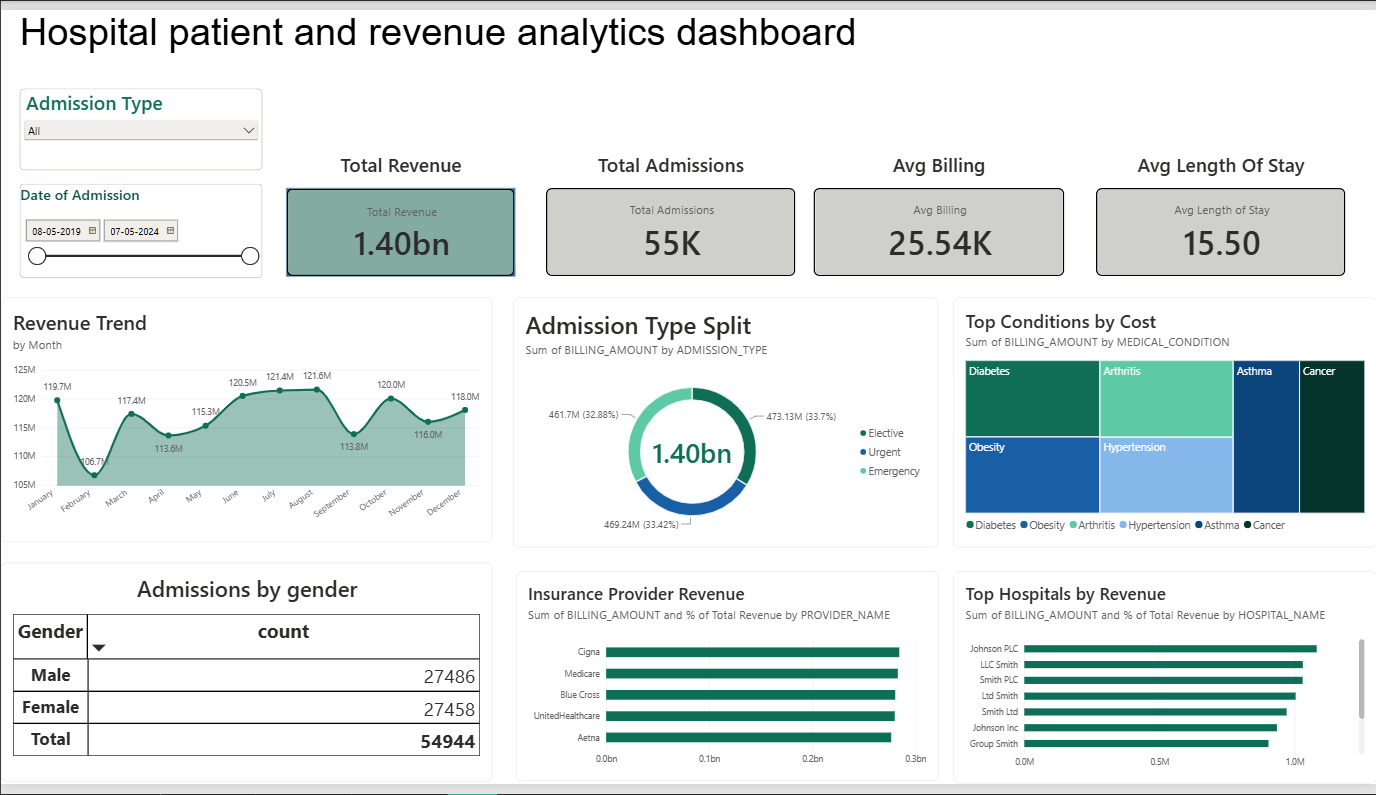

This screenshot's page, from the dashboard's own definition file:
{"tool":"powerbi","page":{"name":"Page 3","canvas":[1920,1080],"ordinal":2},"visuals":[{"type":"lineChart","title":" Revenue Trend","fields":{"Y":["Sum(ADMISSIONS.BILLING_AMOUNT)"],"Category":["ADMISSIONS.DATE_OF_ADMISSION.Variation.Date Hierarchy.Month"]},"box":[0,401.2,685.5,341.9],"z":0},{"type":"donutChart","title":"Admission Type Split","fields":{"Category":["ADMISSIONS.ADMISSION_TYPE"],"Y":["Sum(ADMISSIONS.BILLING_AMOUNT)"]},"box":[715.1,401.2,593,348.8],"z":1000},{"type":"clusteredBarChart","title":"Top Hospitals by Revenue","fields":{"Category":["HOSPITALS.HOSPITAL_NAME"],"Y":["Sum(ADMISSIONS.BILLING_AMOUNT)"]},"box":[1329.1,783.1,590.7,296.4],"z":2000},{"type":"clusteredBarChart","title":" Insurance Provider Revenue","fields":{"Category":["INSURANCE_PROVIDERS.PROVIDER_NAME"],"Y":["Sum(ADMISSIONS.BILLING_AMOUNT)"]},"box":[718.6,783.1,589.5,293],"z":3000},{"type":"treemap","title":"Top Conditions by Cost","fields":{"Group":["ADMISSIONS.MEDICAL_CONDITION"],"Values":["Sum(ADMISSIONS.BILLING_AMOUNT)"]},"box":[1329.1,401.2,591.3,348.8],"z":4000},{"type":"pivotTable","title":"Admissions by gender","fields":{"Rows":["PATIENTS.GENDER"],"Values":["CountNonNull(PATIENTS.AGE)"]},"box":[0,770.9,685.5,305.2],"z":5000},{"type":"textbox","box":[26.2,0,1220.9,109.9],"z":6000},{"type":"cardVisual","title":"Total Revenue ","fields":{"Data":["Sum(ADMISSIONS.BILLING_AMOUNT)"]},"box":[397.7,197.1,320.9,176.2],"z":7000},{"type":"cardVisual","title":"Total Admissions","fields":{"Data":["CountNonNull(ADMISSIONS.ADMISSION_ID)"]},"box":[760.5,197.1,348.8,174.4],"z":8000},{"type":"cardVisual","title":"Avg Billing","fields":{"Data":["Avg(ADMISSIONS.BILLING_AMOUNT)"]},"box":[1133.7,197.1,350.6,174.4],"z":9000},{"type":"cardVisual","title":"Avg Length Of Stay ","fields":{"Data":["Avg(ADMISSIONS.LENGTH_OF_STAY)"]},"box":[1527.9,197.1,348.8,174.4],"z":10000},{"type":"slicer","fields":{"Values":["ADMISSIONS.ADMISSION_TYPE"]},"box":[26.2,109.9,338.4,113.4],"z":11000},{"type":"slicer","fields":{"Values":["ADMISSIONS.DATE_OF_ADMISSION"]},"box":[26.2,252.9,338.4,120.3],"z":12000}]}

Visuals, with their boxes in screenshot pixels (x1, y1, x2, y2), scaled from the page's 1920x1080 canvas onto the 1376x795 screenshot:
" Revenue Trend" lineChart: {"left": 0, "top": 295, "right": 491, "bottom": 547}
"Admission Type Split" donutChart: {"left": 512, "top": 295, "right": 937, "bottom": 552}
"Top Hospitals by Revenue" clusteredBarChart: {"left": 953, "top": 576, "right": 1375, "bottom": 794}
" Insurance Provider Revenue" clusteredBarChart: {"left": 515, "top": 576, "right": 937, "bottom": 792}
"Top Conditions by Cost" treemap: {"left": 953, "top": 295, "right": 1375, "bottom": 552}
"Admissions by gender" pivotTable: {"left": 0, "top": 567, "right": 491, "bottom": 792}
textbox: {"left": 19, "top": 0, "right": 894, "bottom": 81}
"Total Revenue " cardVisual: {"left": 285, "top": 145, "right": 515, "bottom": 275}
"Total Admissions" cardVisual: {"left": 545, "top": 145, "right": 795, "bottom": 273}
"Avg Billing" cardVisual: {"left": 812, "top": 145, "right": 1064, "bottom": 273}
"Avg Length Of Stay " cardVisual: {"left": 1095, "top": 145, "right": 1345, "bottom": 273}
slicer - ADMISSIONS.ADMISSION_TYPE: {"left": 19, "top": 81, "right": 261, "bottom": 164}
slicer - ADMISSIONS.DATE_OF_ADMISSION: {"left": 19, "top": 186, "right": 261, "bottom": 275}
